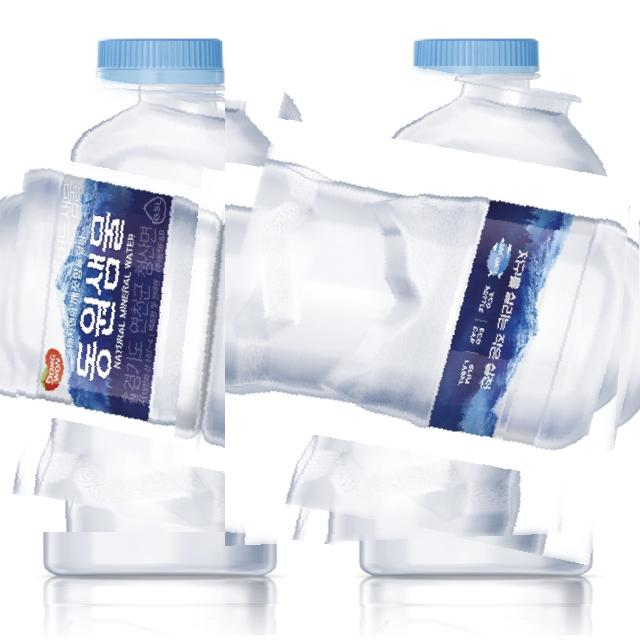recyclable: (225, 66, 640, 547), (0, 82, 385, 532)
